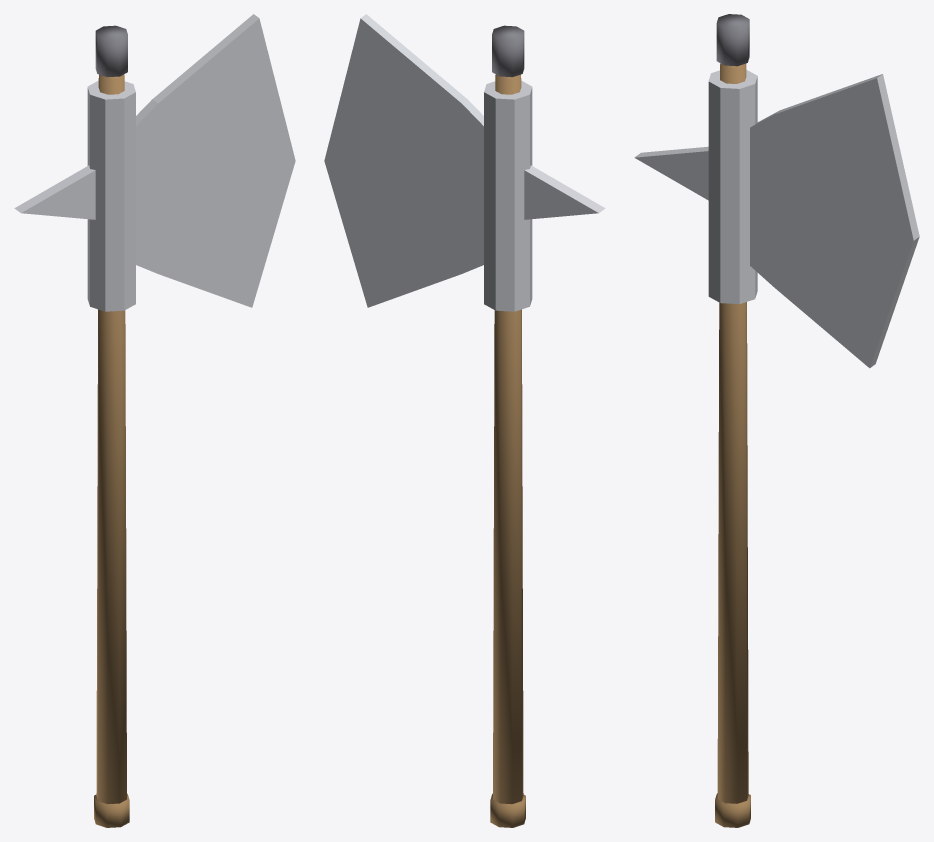
The model's file is arme_hache_guerre.glb.
3 views of the same model, side by side, from view 1: azimuth 30°, elevation 25°; view 2: azimuth 150°, elevation 25°; view 3: azimuth 330°, elevation 25° (orthographic).
Parts seen in each view (by area): view 1: hache_fer, hache_manche, hache_pointe; view 2: hache_fer, hache_manche, hache_pointe; view 3: hache_fer, hache_manche, hache_pointe.
Boxes of the visible parts, box(x1,y1,x2,y2) form: hache_fer: box(14, 14, 295, 311); hache_manche: box(94, 74, 129, 827); hache_pointe: box(95, 25, 127, 77); hache_fer: box(324, 14, 605, 311); hache_manche: box(490, 74, 525, 827); hache_pointe: box(492, 25, 524, 77); hache_fer: box(634, 69, 919, 368); hache_manche: box(715, 63, 750, 827); hache_pointe: box(716, 14, 749, 66).
Bounding box in the file's own units: 0.38 × 1.04 × 0.06.
